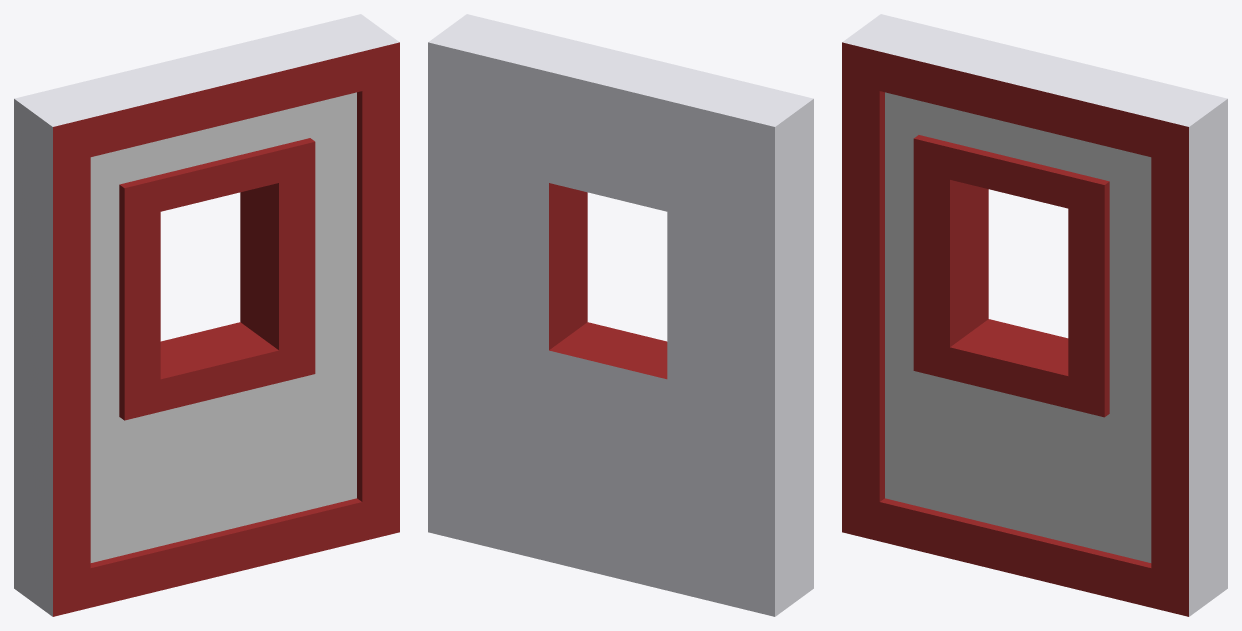
Rendered from Asian_Prop_Building_Modular_Wall_Window_Half_02.FBX.
The picture shows the model from 3 angles, left to right: view 1: azimuth 30°, elevation 25°; view 2: azimuth 150°, elevation 25°; view 3: azimuth 330°, elevation 25°; orthographic projection.
Parts seen in each view (by area): view 1: Asian_Prop_Building_Modular_Wall_Window_Half_02; view 2: Asian_Prop_Building_Modular_Wall_Window_Half_02; view 3: Asian_Prop_Building_Modular_Wall_Window_Half_02.
Boxes of the visible parts, x1,y1,x2,y2 form: Asian_Prop_Building_Modular_Wall_Window_Half_02: (14, 14, 399, 616); Asian_Prop_Building_Modular_Wall_Window_Half_02: (428, 14, 813, 616); Asian_Prop_Building_Modular_Wall_Window_Half_02: (842, 14, 1227, 616).
Size of the model in its own units: 2584 by 3485 by 500.
